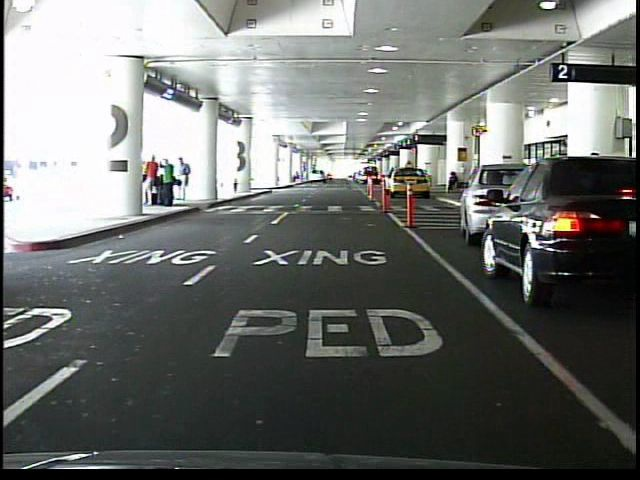person: (146, 152, 160, 207), (162, 157, 175, 208), (178, 157, 192, 202), (445, 171, 460, 195)
